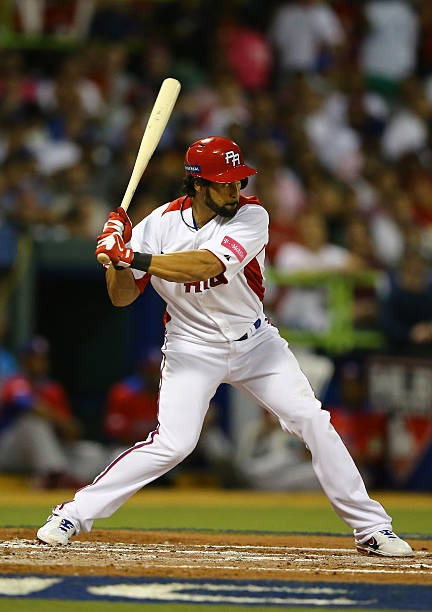bita: (108, 77, 184, 240)
